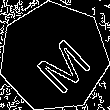M_NW: (20, 23, 88, 91)
